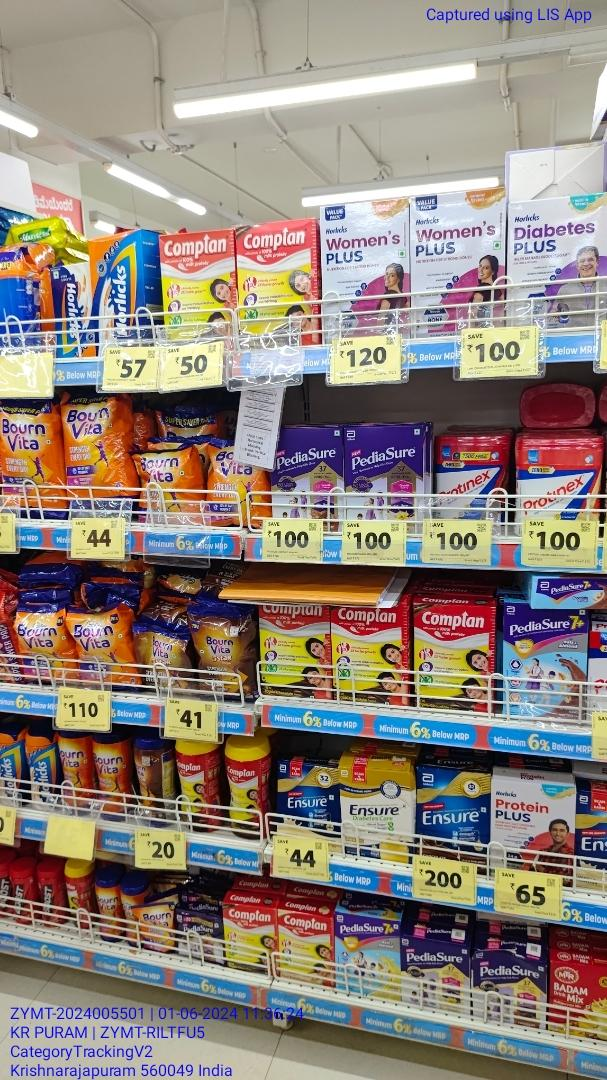BOURN_VITA_75_G_POUCH: (137, 901, 175, 951)
COMPLAN_CHOCOLATE_200_GMS_PACK: (224, 903, 278, 972)
COMPLAN_CHOCOLATE_500_GMS_JAR: (175, 739, 207, 827)
COMPLAN_KESAR_BADAM_200_GMS_PACK: (278, 910, 332, 986)
PEDIASURE_7_PLUS_CHOCOLATE_400_G_PACK: (500, 606, 588, 724)
